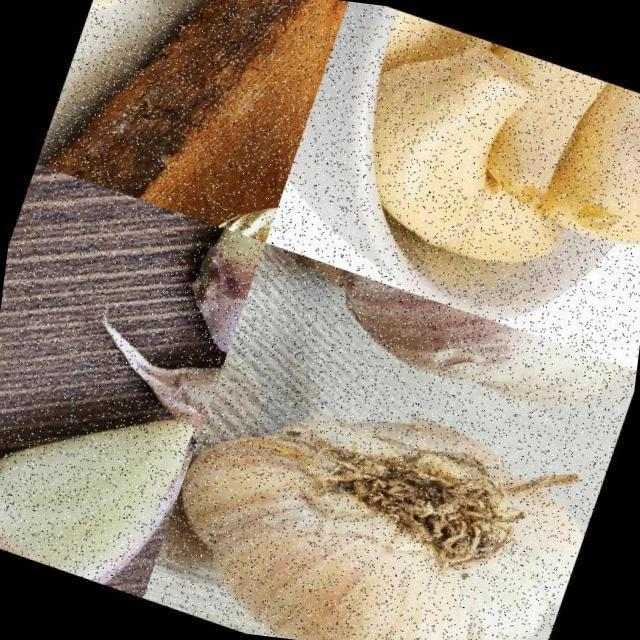garlic: (140, 338, 614, 640), (308, 0, 640, 321), (254, 247, 640, 443), (0, 347, 209, 601), (113, 342, 224, 520), (172, 220, 266, 362), (85, 0, 138, 28)
